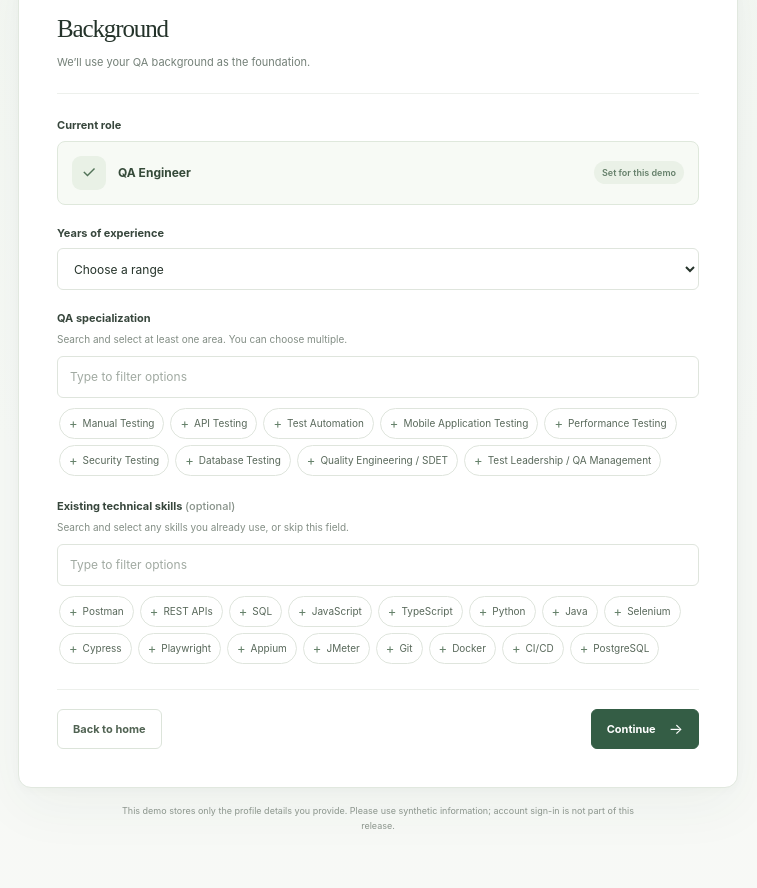
Test case: onboarding wizard › validates required background fields inline before continuing
This screenshot has width=757, height=888.
(page scrolled)
Click the button "Continue →": (645, 729) 591,709 -> 699,749
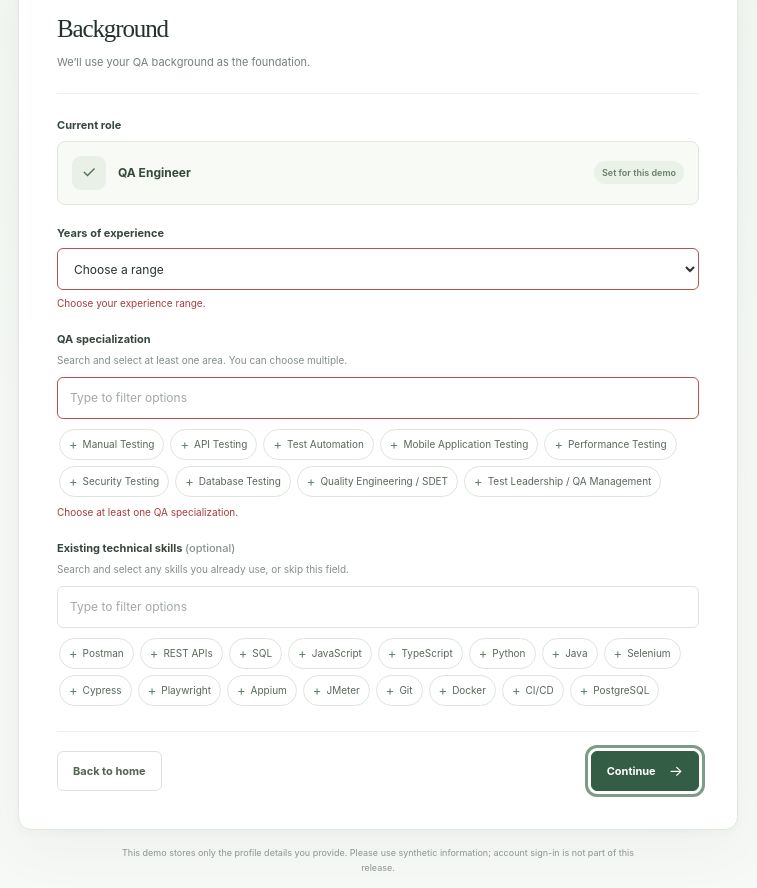
Now the text "Choose your experience range." is shown, box 57,297 -> 206,309
Now the text "Choose at least one QA specialization." is shown, box 57,506 -> 238,518
